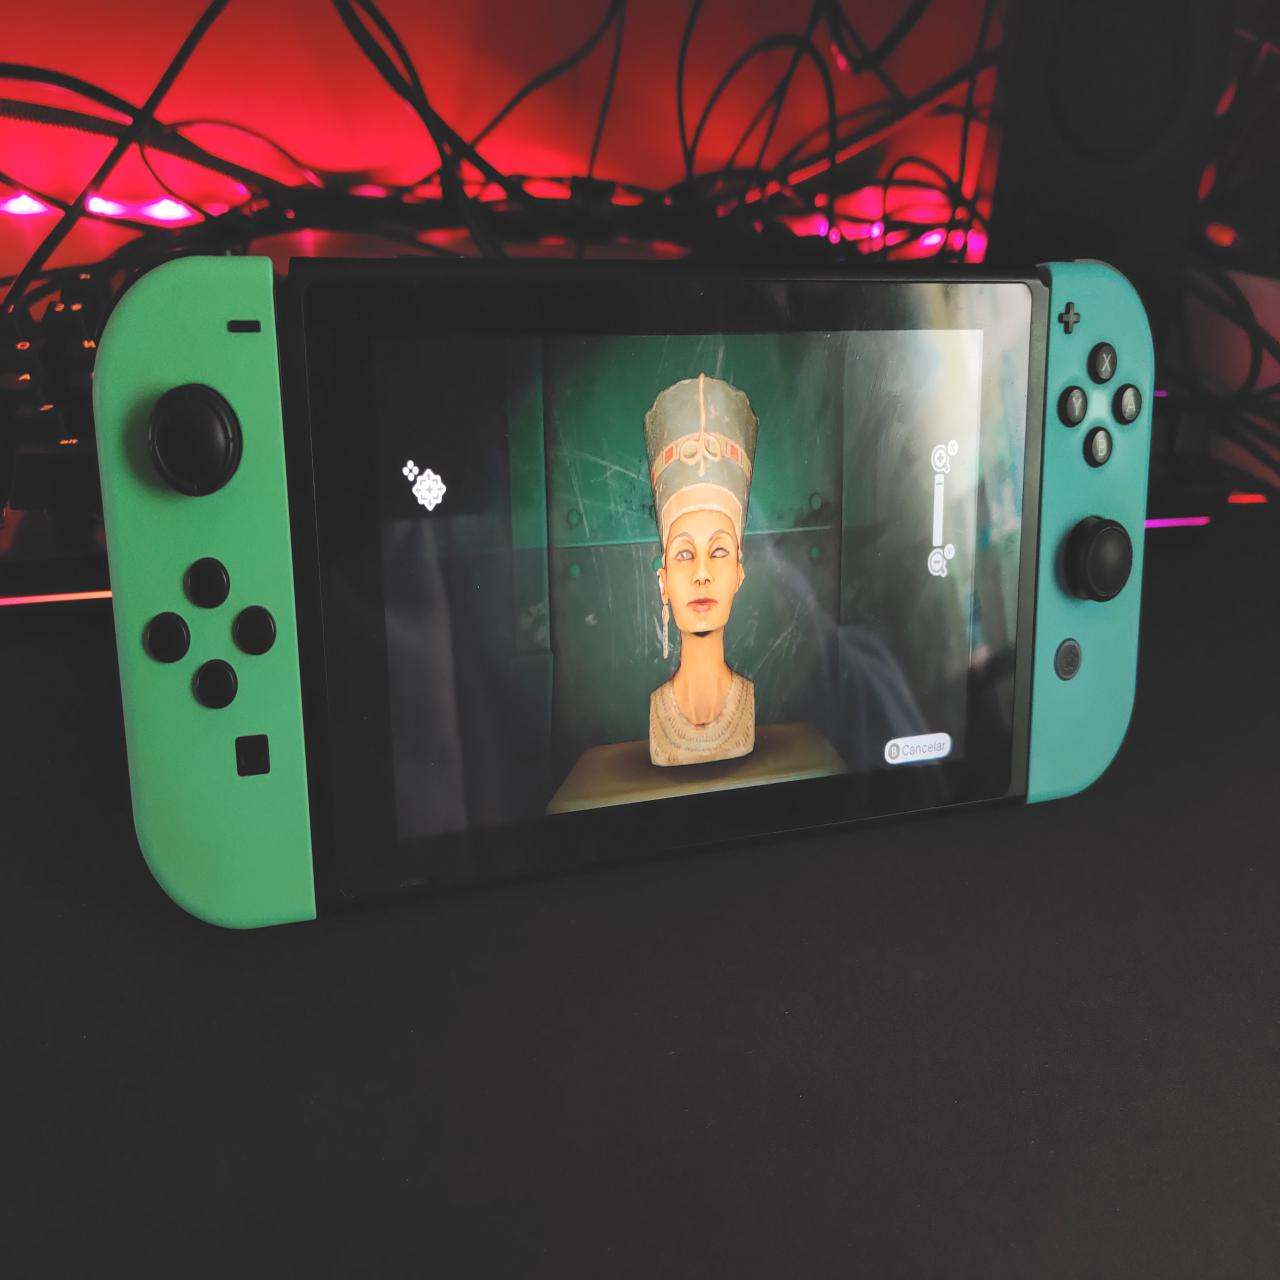NefertitiFake: (644, 372, 762, 765)
